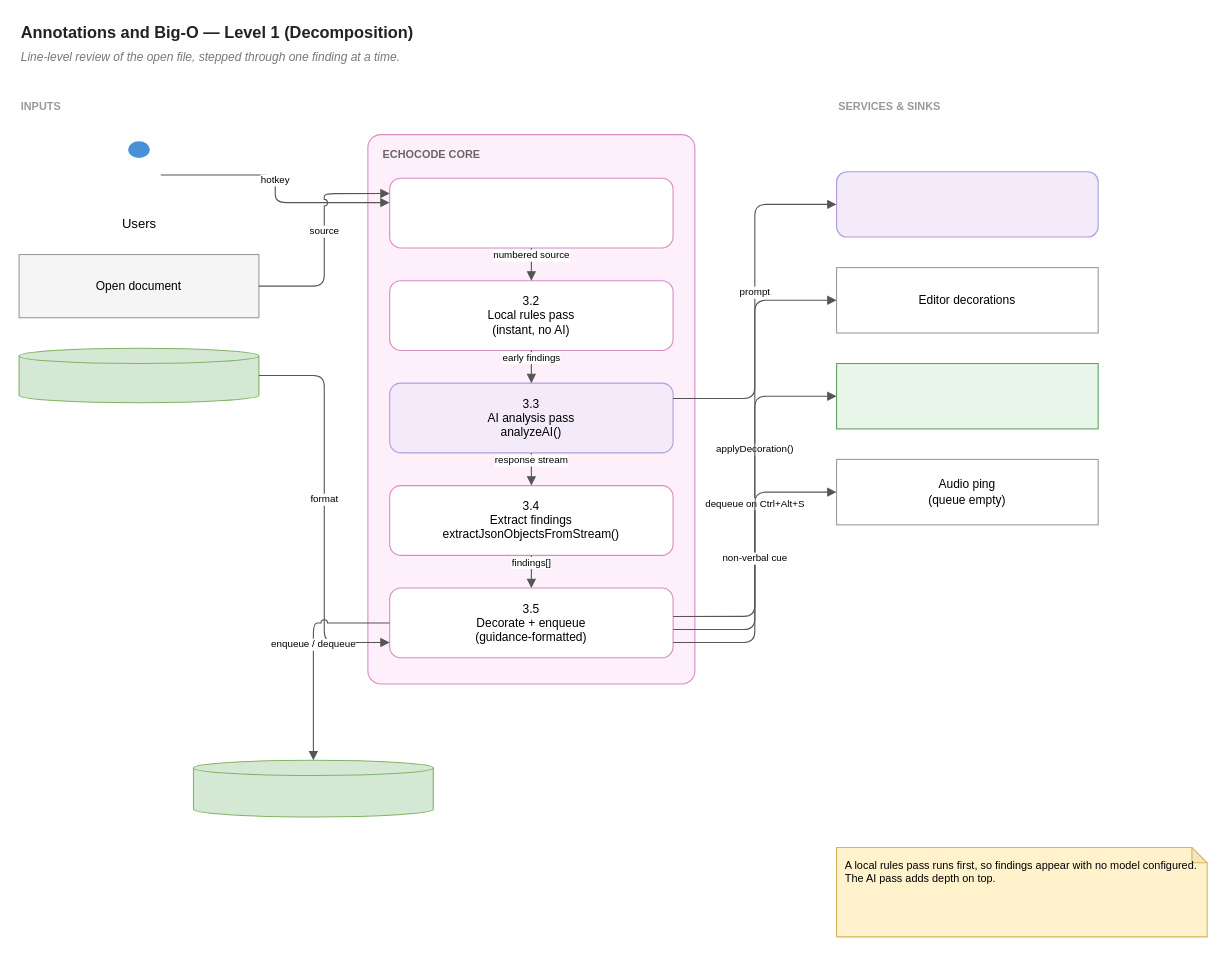
Image size: 1226x956. Some labels were removed from this diagram. Here are the shapes that lost their labels. From the top down, the box of each, then its label:
(389, 177, 673, 248): 3.1 Read file with line numbers
(835, 171, 1098, 237): AI Services Layer
(18, 347, 259, 403): Guidance level
(835, 362, 1098, 429): Speech Output / TTS
(192, 759, 433, 817): Finding queue (Queue class)
